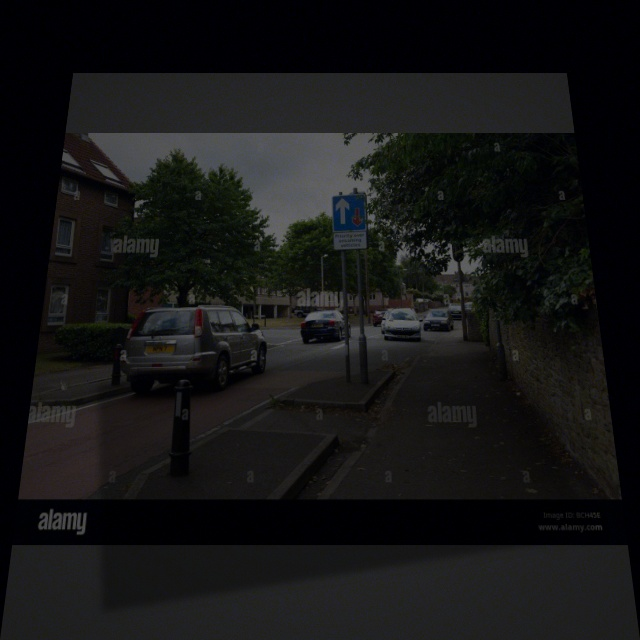Priority_for_Oncoming_Traffic: (332, 194, 368, 231)
